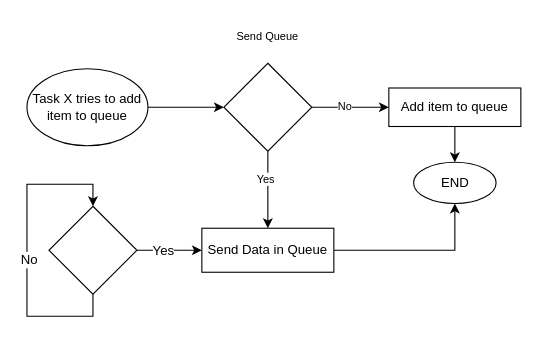
Some shapes in this 540 by 344 pixel diagram are drawn without their labels. Here are the shapes that lost their labels. From the top down, the centre of each, then its label:
point 267,106: Queue is full?
point 92,249: Is timer expired?
